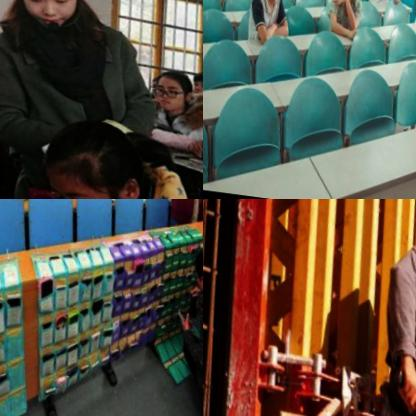head: (24, 109, 154, 199), (3, 0, 93, 32), (143, 69, 192, 113), (184, 246, 203, 289), (184, 66, 203, 103)
